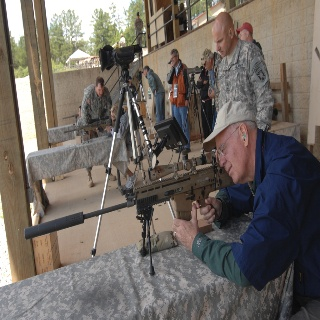rifle: (24, 151, 237, 240), (64, 119, 115, 133)
